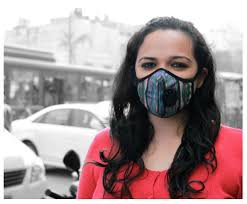mask: (126, 17, 210, 115)
